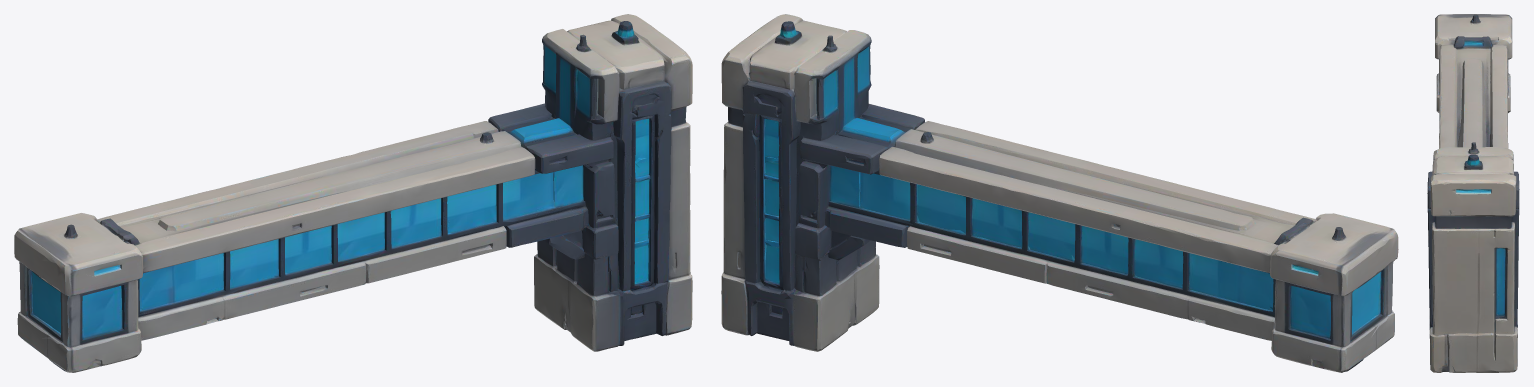
The picture shows the model from 3 angles, left to right: view 1: azimuth 30°, elevation 25°; view 2: azimuth 150°, elevation 25°; view 3: azimuth 270°, elevation 25°; orthographic projection. The views are drawn at different scales.
Visible parts, largest first — view 1: Mesh; view 2: Mesh; view 3: Mesh.
Boxes of the visible parts, x1,y1,x2,y2 form: Mesh: (14, 14, 692, 372); Mesh: (721, 14, 1398, 372); Mesh: (1427, 14, 1519, 372).
Size of the model in its own units: 1.9 by 0.8526 by 0.3463.
Materials: 1 (1 with a texture image).
